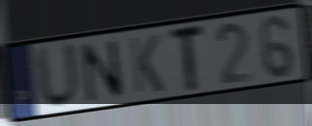2: (214, 20, 256, 87)
6: (258, 13, 297, 81)
K: (128, 33, 166, 96)
N: (79, 38, 127, 104)
T: (170, 21, 207, 94)
U: (33, 39, 83, 112)
